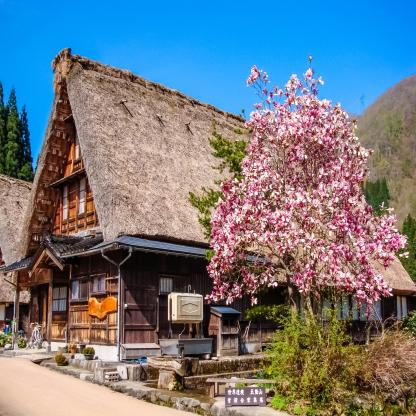Mokuren: (203, 50, 409, 318)
